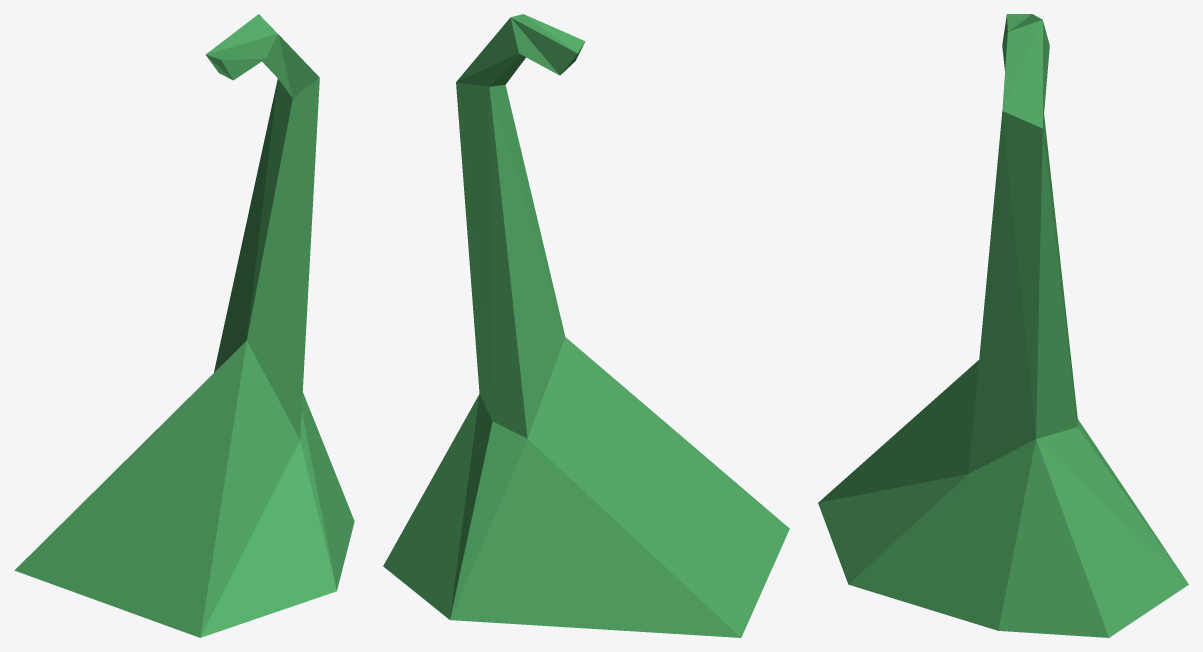
File: stalk_01_single.FBX
3 views of the same model, side by side, from view 1: azimuth 30°, elevation 25°; view 2: azimuth 150°, elevation 25°; view 3: azimuth 270°, elevation 25° (orthographic). The views are drawn at different scales.
Parts seen in each view (by area): view 1: Plane001; view 2: Plane001; view 3: Plane001.
Boxes of the visible parts, x1=… form: Plane001: x1=14, y1=14, x2=354, y2=637; Plane001: x1=383, y1=14, x2=789, y2=637; Plane001: x1=818, y1=14, x2=1188, y2=637.
Size of the model in its own units: 2.27 by 3.48 by 2.05.
